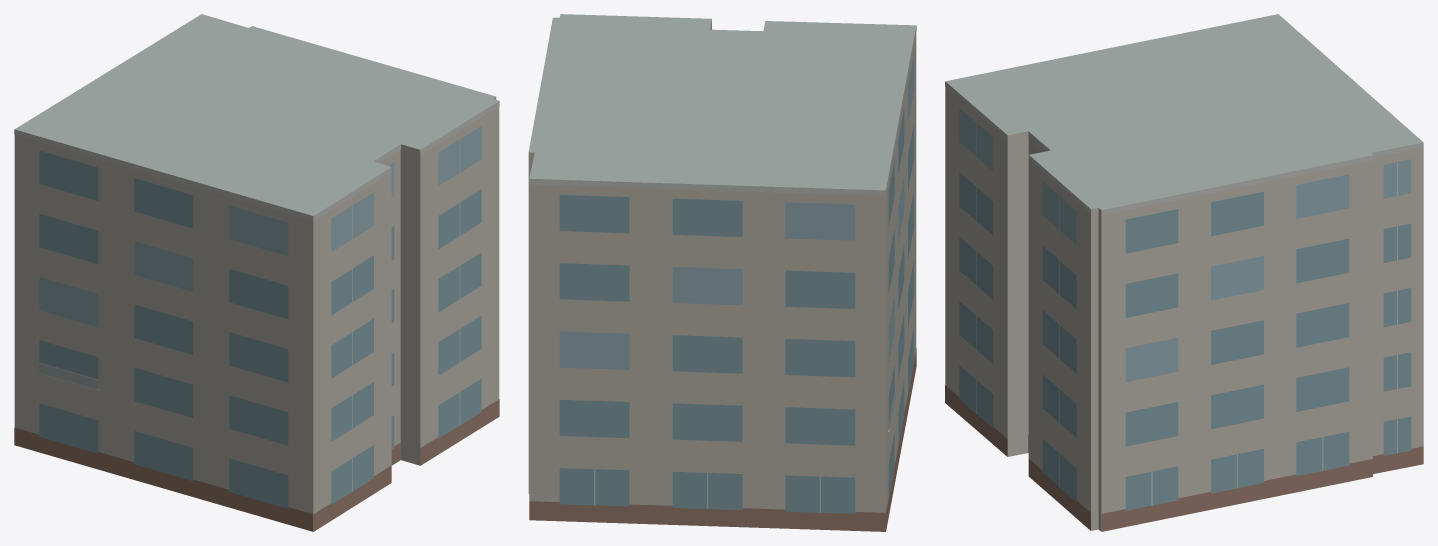
The model's file is survey-upis-32737874.glb.
3 renders of one model, left to right at view 1: azimuth 30°, elevation 25°; view 2: azimuth 150°, elevation 25°; view 3: azimuth 270°, elevation 25°, orthographic. The views are drawn at different scales.
Parts seen in each view (by area): view 1: survey-upis-32737874.tmp; view 2: survey-upis-32737874.tmp; view 3: survey-upis-32737874.tmp.
Boxes of the visible parts, x1,y1,x2,y2 form: survey-upis-32737874.tmp: [14, 14, 499, 531]; survey-upis-32737874.tmp: [528, 14, 916, 531]; survey-upis-32737874.tmp: [945, 14, 1423, 531].
Bounding box in the file's own units: 18.92 × 14.45 × 19.5.
